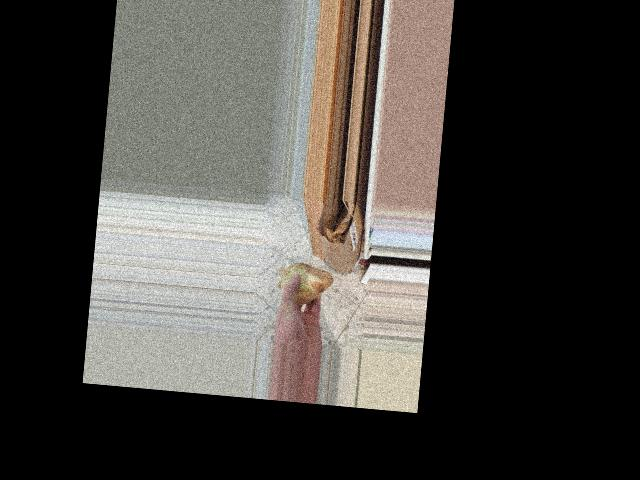onion: (275, 255, 332, 310)
